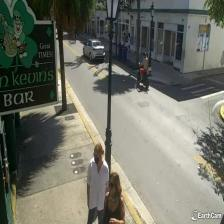person: (86, 143, 109, 224), (103, 172, 125, 224)
